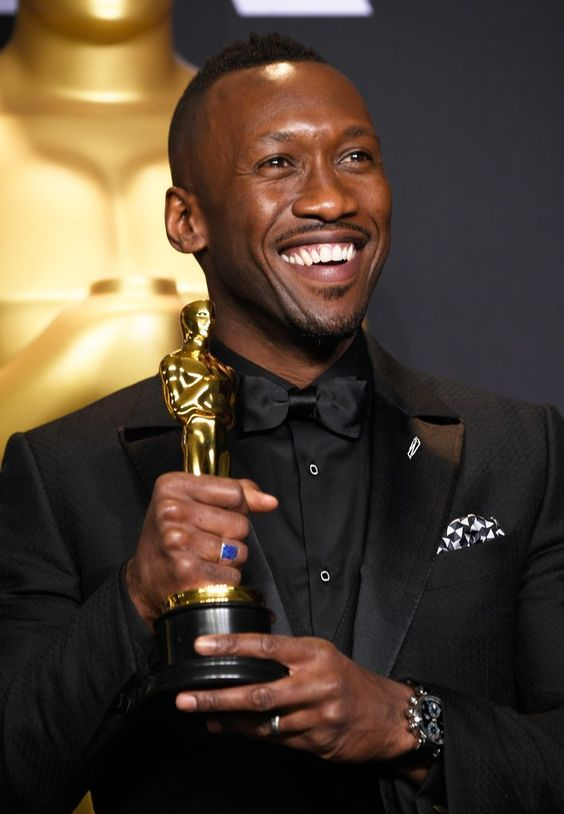hand: (188, 644, 438, 742)
